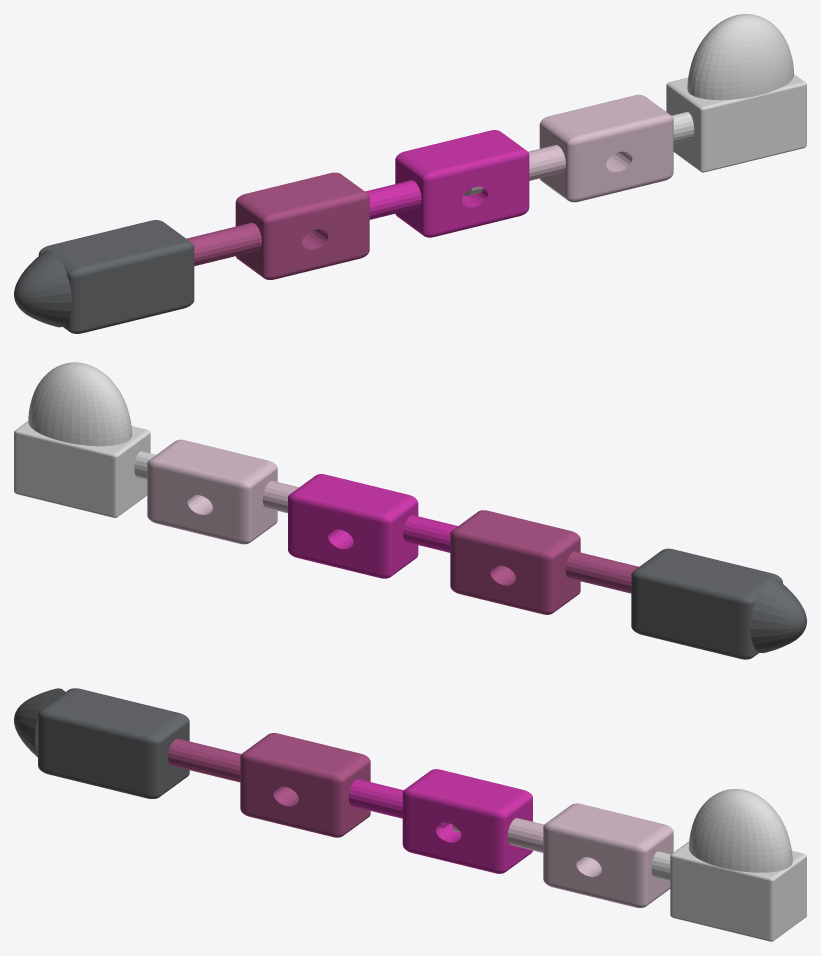
The model's file is Surprising Inari.glb.
The picture shows the model from 3 angles, top to bottom: view 1: azimuth 30°, elevation 25°; view 2: azimuth 150°, elevation 25°; view 3: azimuth 330°, elevation 25°; orthographic projection. The views are drawn at different scales.
Visible parts, largest first — view 1: Mesh_Mesh_head_geo.001_lambert2SG.001; view 2: Mesh_Mesh_head_geo.001_lambert2SG.001; view 3: Mesh_Mesh_head_geo.001_lambert2SG.001.
Boxes of the visible parts, left/top/right/bottom form: Mesh_Mesh_head_geo.001_lambert2SG.001: left=14, top=14, right=806, bottom=333; Mesh_Mesh_head_geo.001_lambert2SG.001: left=14, top=362, right=806, bottom=659; Mesh_Mesh_head_geo.001_lambert2SG.001: left=14, top=688, right=806, bottom=941.
Bounding box in the file's own units: 125 × 20 × 13.
